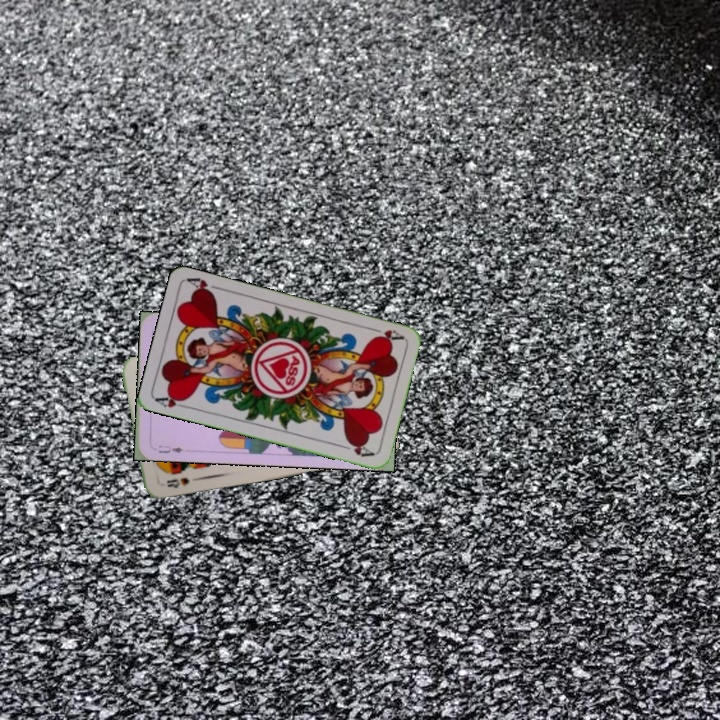EU: (154, 441, 186, 456)
HA: (152, 390, 192, 411), (366, 323, 406, 344)
S8: (162, 473, 192, 491)
